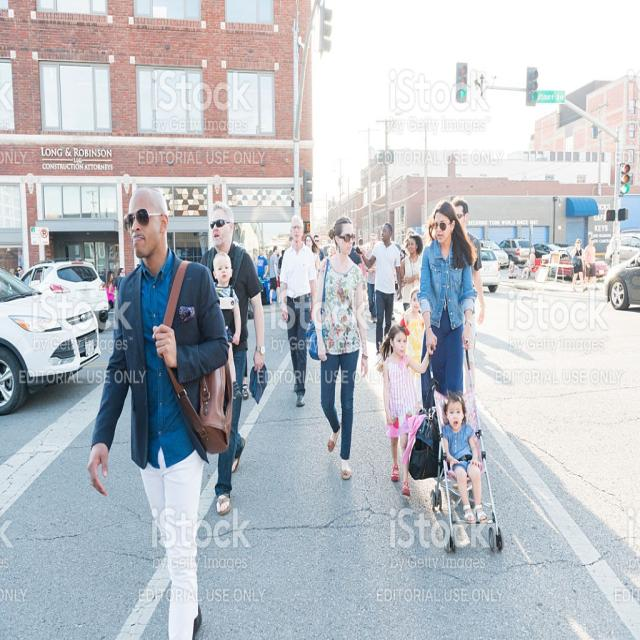body: (83, 181, 239, 639), (198, 200, 268, 516), (304, 210, 371, 482), (416, 198, 480, 403), (378, 321, 438, 498), (278, 212, 318, 410), (450, 196, 487, 394), (437, 387, 489, 527), (355, 221, 404, 356), (212, 250, 243, 401), (398, 287, 426, 414), (400, 233, 424, 314), (349, 233, 369, 315), (364, 232, 378, 324), (505, 250, 538, 284), (582, 235, 600, 292), (102, 270, 118, 324), (571, 236, 586, 293), (268, 244, 280, 306), (7, 264, 30, 290), (276, 248, 286, 306), (114, 266, 124, 313), (257, 246, 269, 282), (321, 237, 336, 264), (313, 235, 325, 262), (305, 234, 318, 254)
